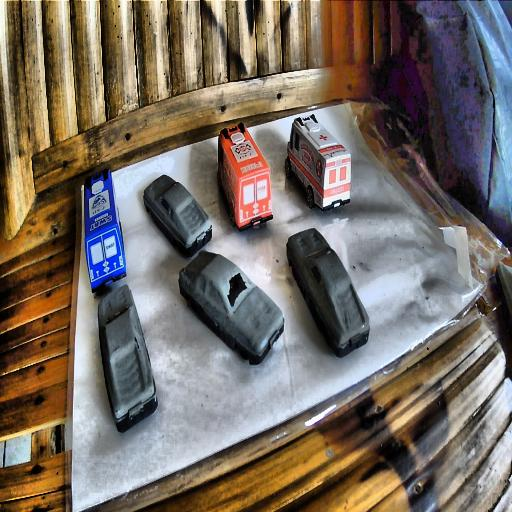ambulance: (284, 112, 350, 212)
fire_truck: (217, 121, 273, 229)
normal_car: (177, 250, 282, 364), (285, 228, 371, 357), (97, 284, 157, 432), (143, 173, 212, 259)
police car: (83, 168, 127, 296)
